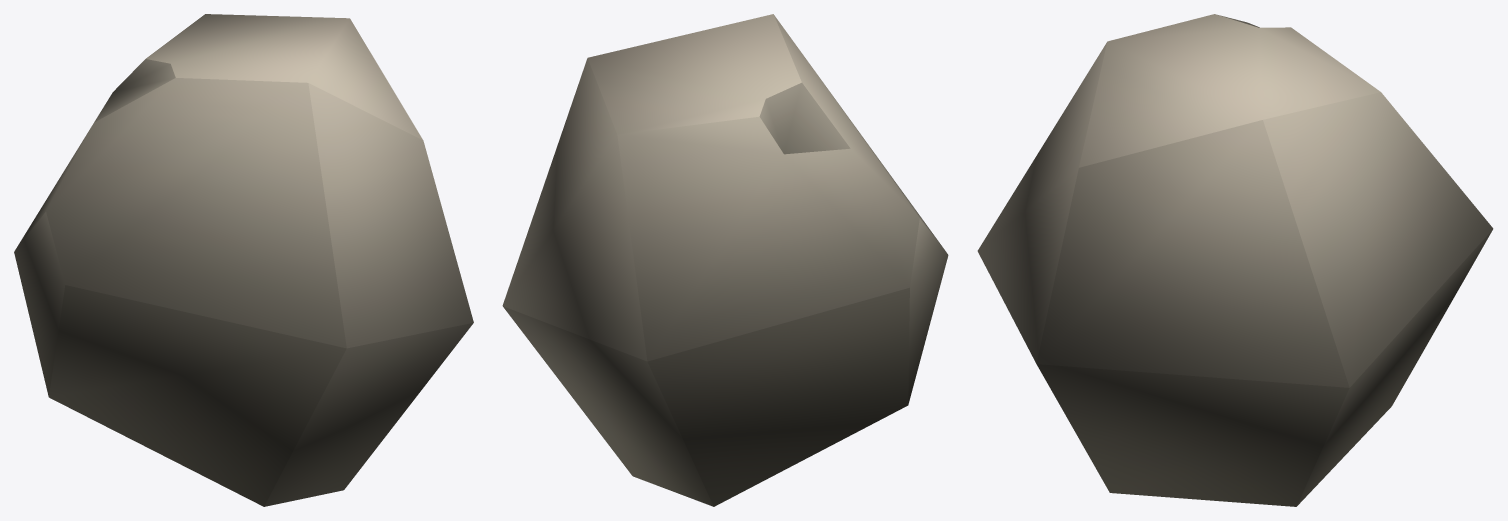
The model's file is Rock_Small_1G.fbx.
3 renders of one model, left to right at view 1: azimuth 30°, elevation 25°; view 2: azimuth 150°, elevation 25°; view 3: azimuth 270°, elevation 25°, orthographic. The views are drawn at different scales.
Visible parts, largest first — view 1: Rock_Small_1G; view 2: Rock_Small_1G; view 3: Rock_Small_1G.
Part boxes in pixels (bbox=[...]): Rock_Small_1G: bbox=[14, 14, 473, 506]; Rock_Small_1G: bbox=[502, 14, 948, 506]; Rock_Small_1G: bbox=[977, 14, 1493, 506].
Size of the model in its own units: 64.04 by 68.08 by 72.65.
